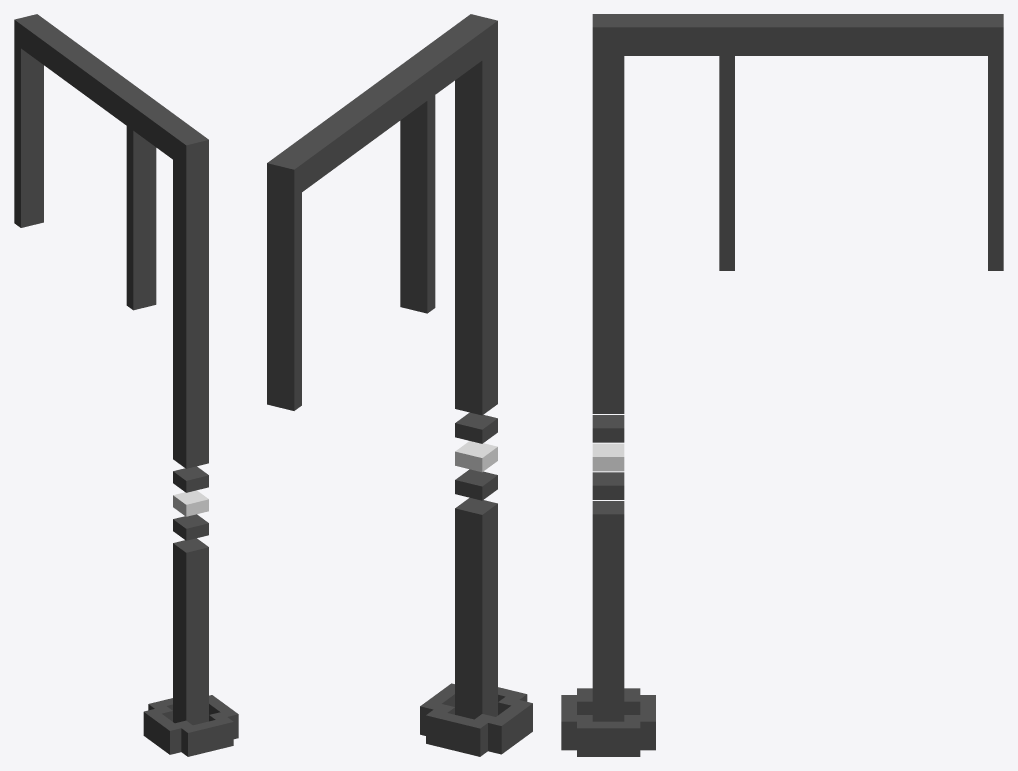
File: StreetAd1.obj
3 views of the same model, side by side, from view 1: azimuth 30°, elevation 25°; view 2: azimuth 150°, elevation 25°; view 3: azimuth 270°, elevation 25° (orthographic). The views are drawn at different scales.
Parts seen in each view (by area): view 1: StreetAd1; view 2: StreetAd1; view 3: StreetAd1.
Boxes of the visible parts, left/top/right/bottom form: StreetAd1: left=14, top=14, right=238, bottom=756; StreetAd1: left=267, top=14, right=532, bottom=756; StreetAd1: left=561, top=14, right=1003, bottom=756.
Bounding box in the file's own units: 0.378 × 3.15 × 1.76.
1 material, 1 textured.
